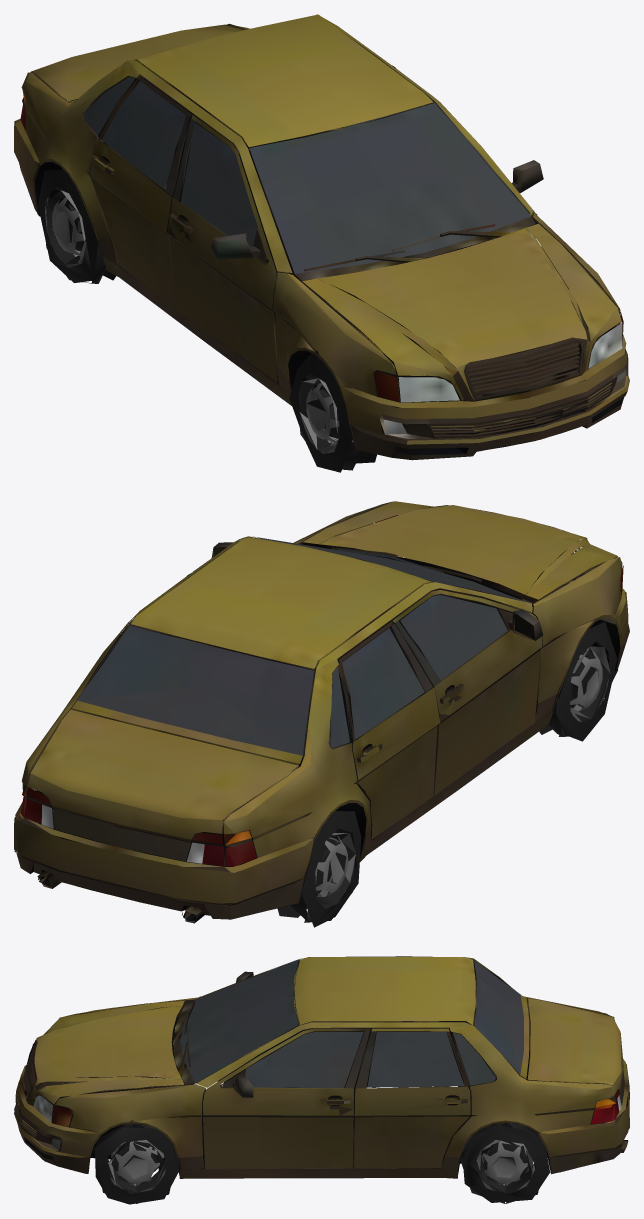
File: pack-sedan-L2.glb
3 views of the same model, one above another, from view 1: azimuth 30°, elevation 25°; view 2: azimuth 150°, elevation 25°; view 3: azimuth 270°, elevation 25° (orthographic). The views are drawn at different scales.
Parts seen in each view (by area): view 1: body, wheel-front-left, wheel-back-left, wheel-front-left.1, wheel-back-left.1; view 2: body, wheel-back-left, wheel-front-left, wheel-front-left.1, wheel-back-left.1; view 3: body, wheel-back-right, wheel-front-right, wheel-back-right.1, wheel-front-right.1.
Boxes of the visible parts, left/top/right/bottom form: body: left=14, top=14, right=629, bottom=460; wheel-front-left: left=289, top=353, right=376, bottom=472; wheel-back-left: left=38, top=170, right=115, bottom=283; wheel-front-left.1: left=299, top=378, right=353, bottom=453; wheel-back-left.1: left=45, top=190, right=86, bottom=265; body: left=14, top=501, right=629, bottom=923; wheel-back-left: left=277, top=811, right=361, bottom=927; wheel-front-left: left=537, top=622, right=617, bottom=741; wheel-front-left.1: left=570, top=646, right=610, bottom=721; wheel-back-left.1: left=315, top=833, right=355, bottom=897; body: left=14, top=956, right=629, bottom=1178; wheel-back-right: left=460, top=1122, right=550, bottom=1203; wheel-front-right: left=94, top=1123, right=179, bottom=1204; wheel-back-right.1: left=476, top=1140, right=534, bottom=1190; wheel-front-right.1: left=108, top=1140, right=165, bottom=1192.
Size of the model in its own units: 1.94 by 1.4 by 4.36.
Materials: 3 (1 with a texture image).
